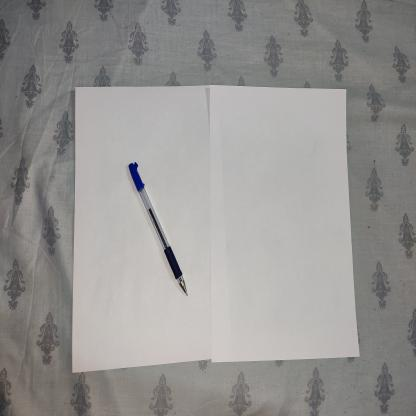pen: (128, 155, 192, 302)
